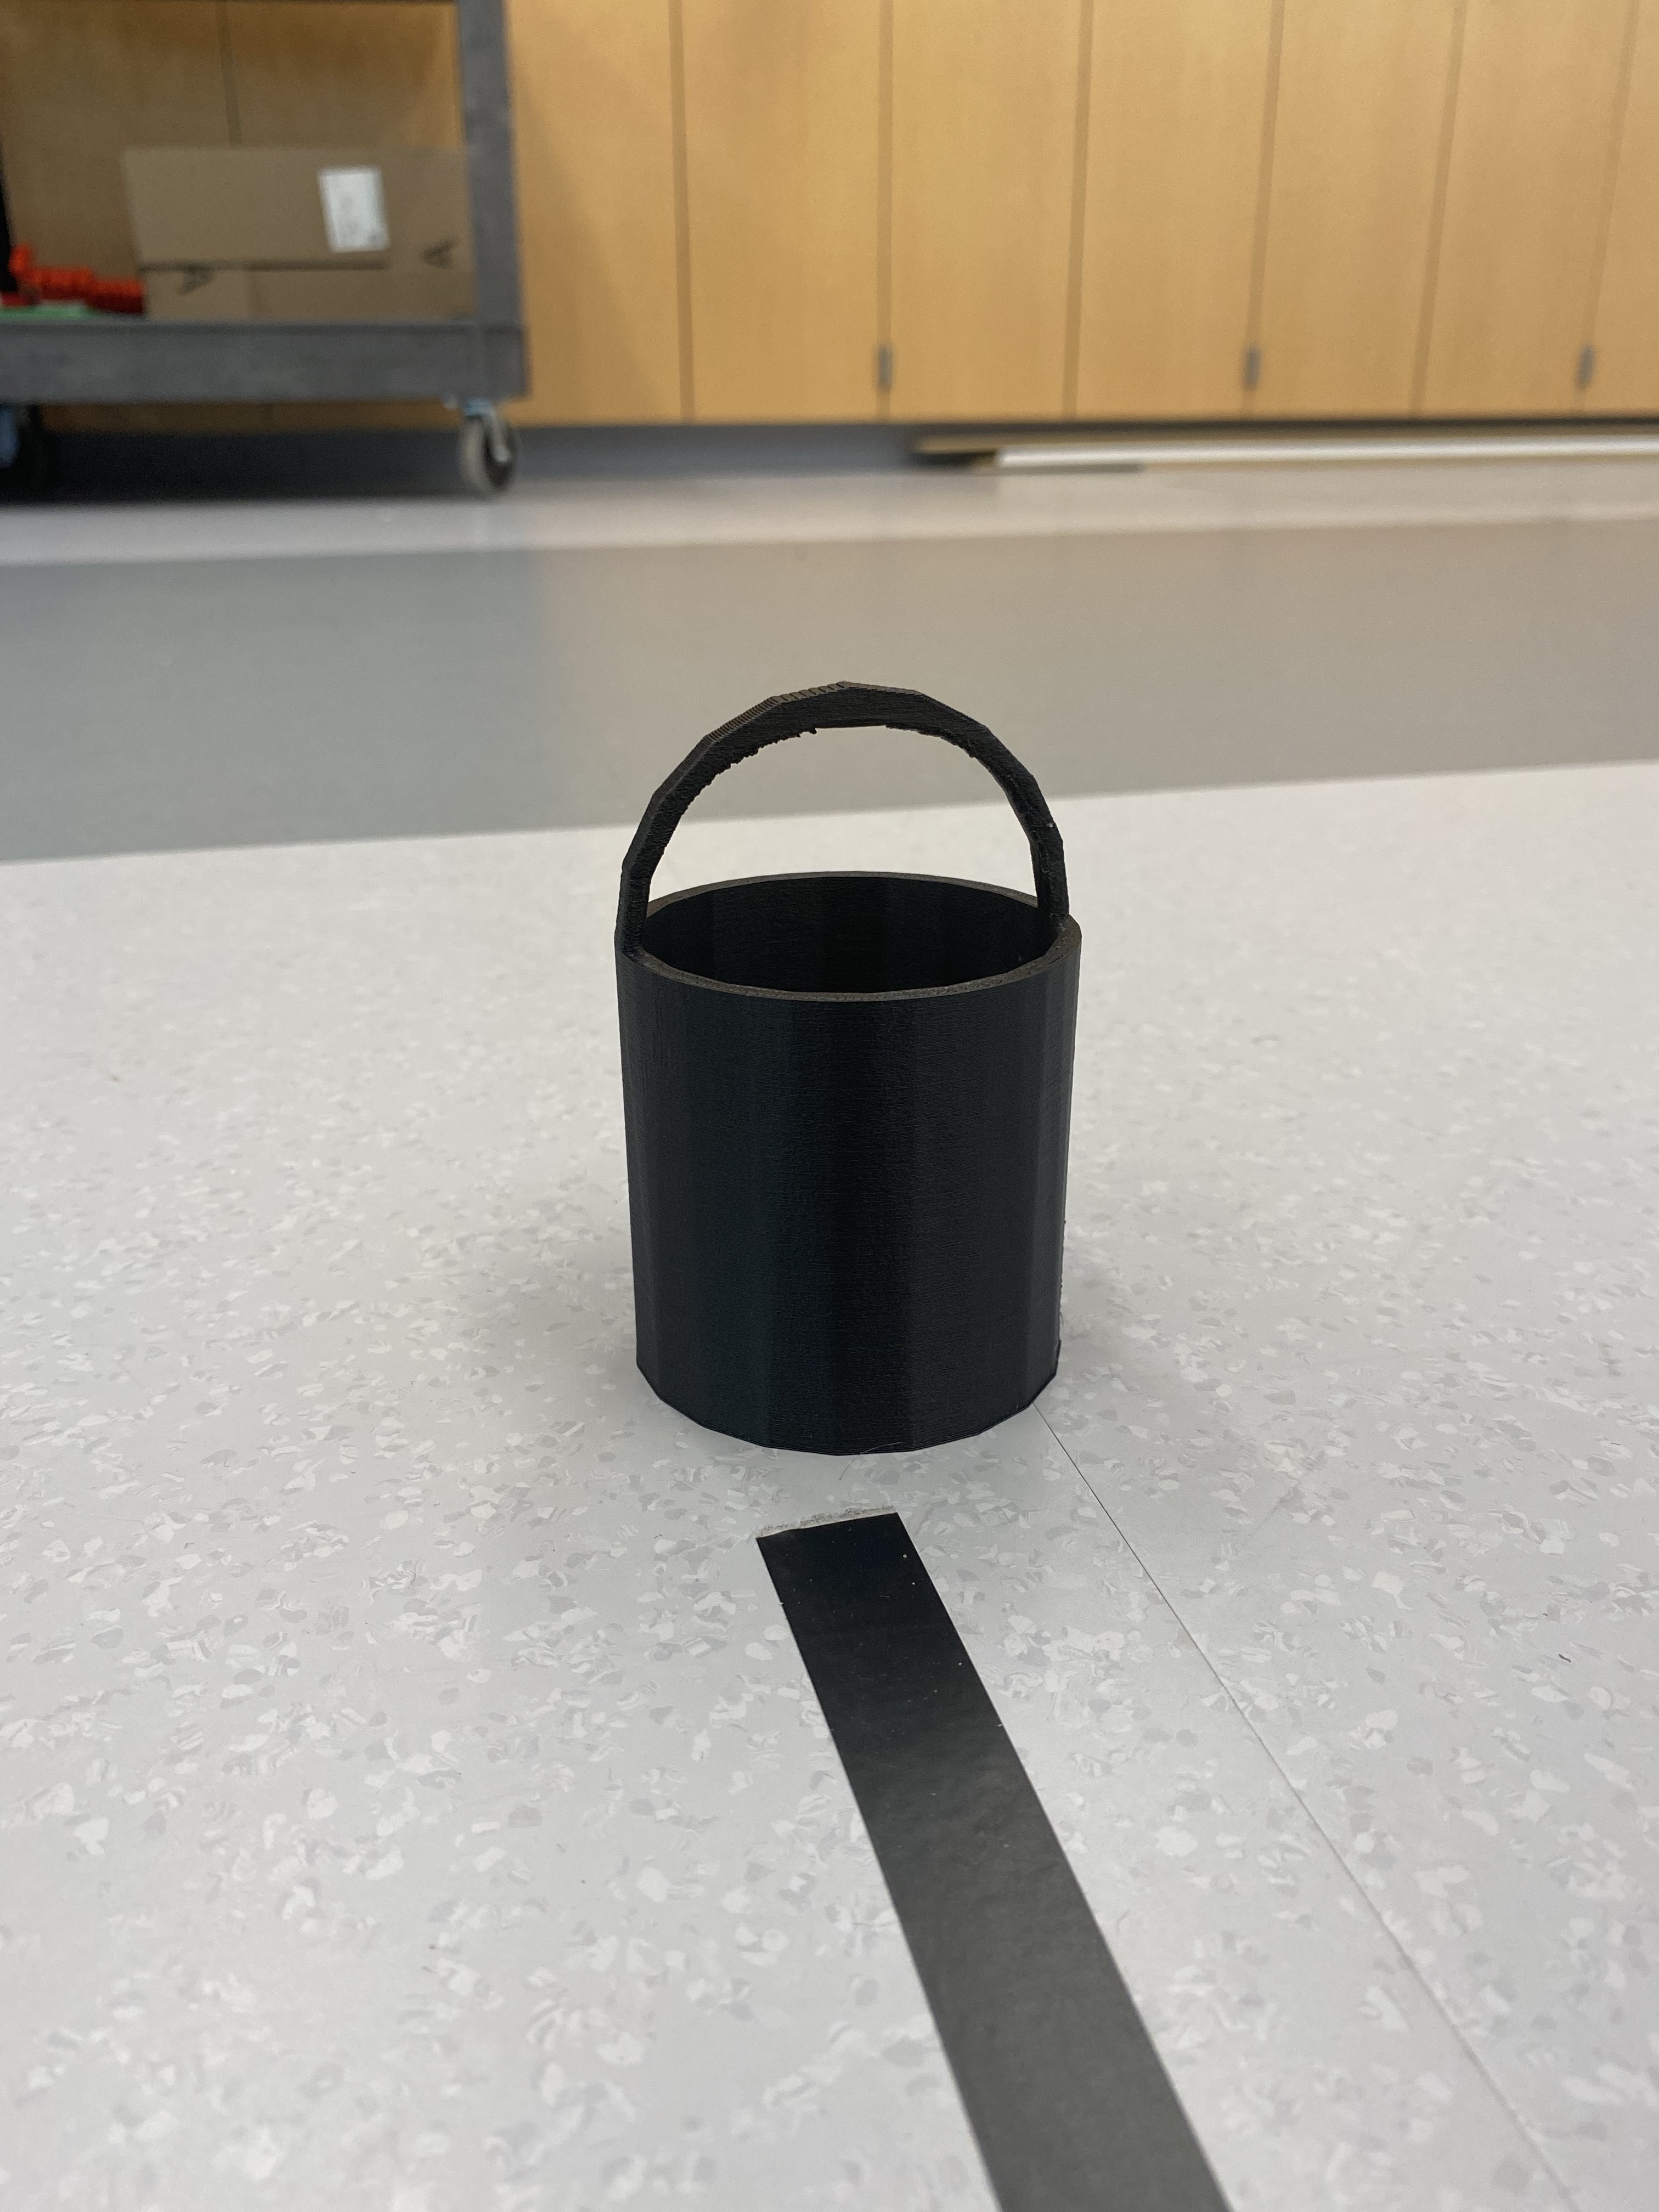bag: (608, 662, 1087, 1453)
